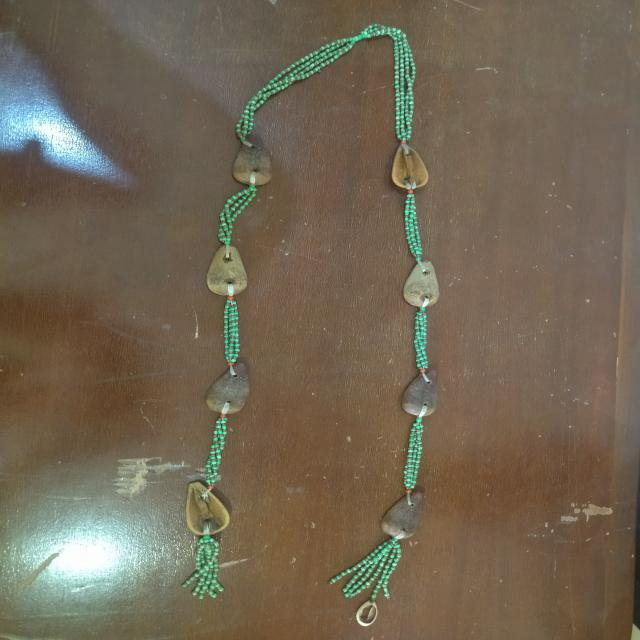facedown: (202, 236, 258, 304), (228, 124, 282, 193), (377, 483, 432, 547), (203, 356, 254, 420), (396, 363, 447, 420), (400, 250, 444, 314)
faceup: (178, 478, 236, 542), (384, 136, 438, 198)
